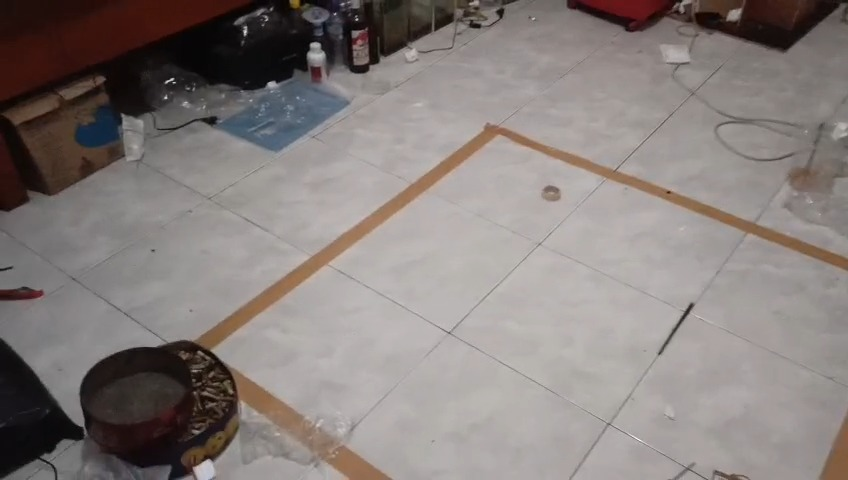floor marking: (198, 125, 847, 347), (233, 370, 304, 427), (327, 447, 390, 479), (820, 414, 847, 479)
